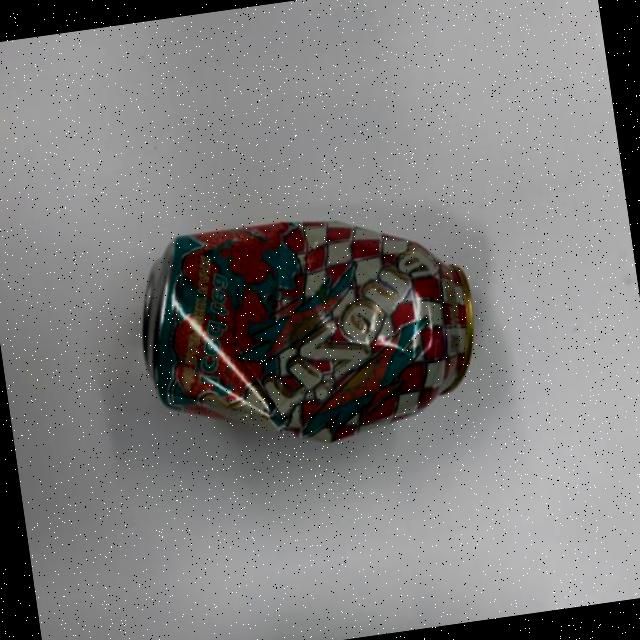Metal: (109, 192, 520, 502)
